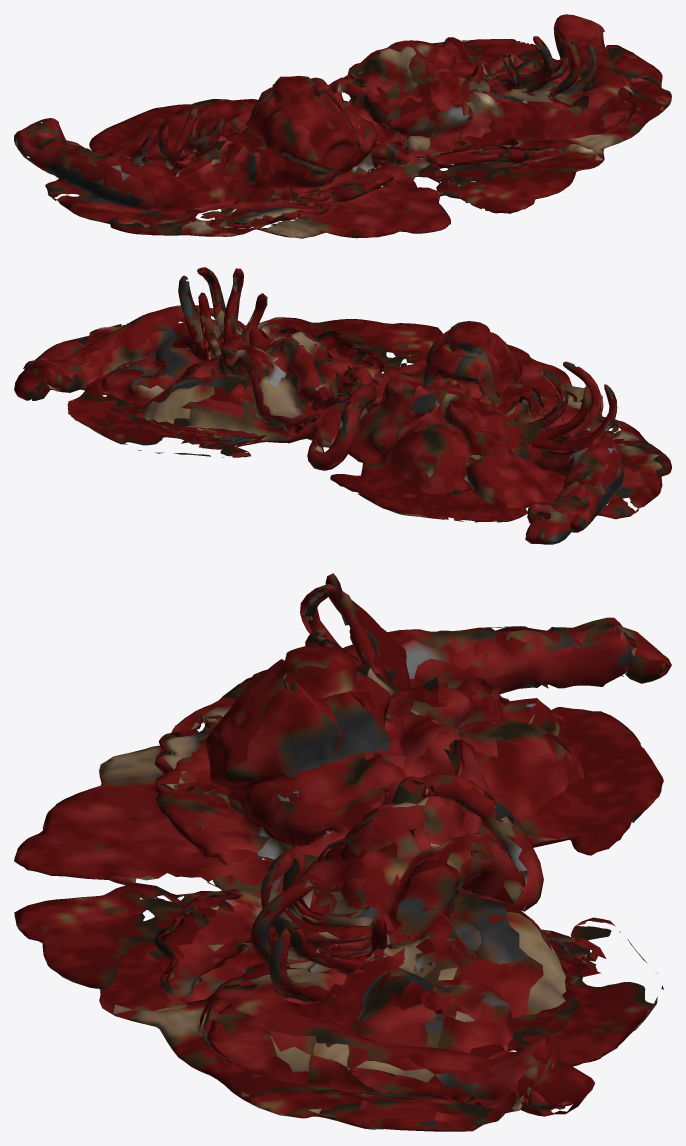
The model's file is POSSU0.obj.
3 renders of one model, top to bottom at view 1: azimuth 30°, elevation 25°; view 2: azimuth 150°, elevation 25°; view 3: azimuth 270°, elevation 25°, orthographic. The views are drawn at different scales.
Bounding box in the file's own units: 1 × 0.186 × 0.5842.
1 material, 1 textured.
